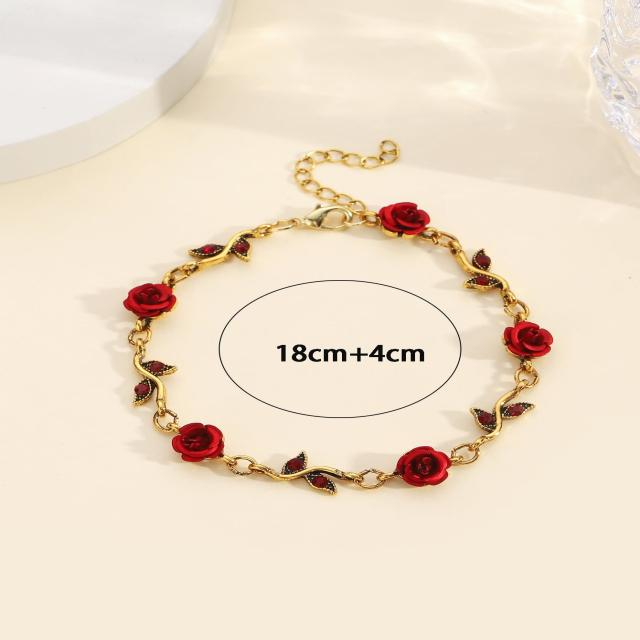bracelet: (55, 98, 619, 561)
